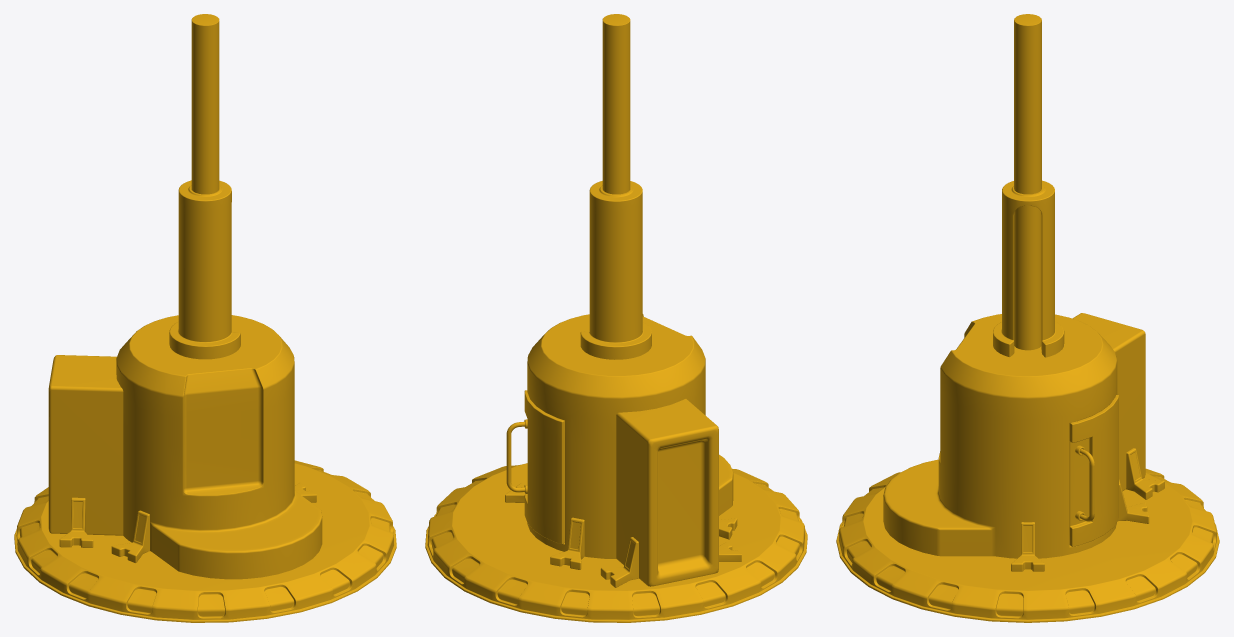
File: SM_Antenna01_part01.fbx
3 renders of one model, left to right at view 1: azimuth 30°, elevation 25°; view 2: azimuth 150°, elevation 25°; view 3: azimuth 270°, elevation 25°, orthographic.
Visible parts, largest first — view 1: SM_Antenna01_part01; view 2: SM_Antenna01_part01; view 3: SM_Antenna01_part01.
Part boxes in pixels (box(x1,y1,x2,y2)): SM_Antenna01_part01: box(14, 14, 396, 622); SM_Antenna01_part01: box(425, 14, 807, 622); SM_Antenna01_part01: box(836, 14, 1219, 622).
Bounding box in the file's own units: 103 × 155 × 103.
